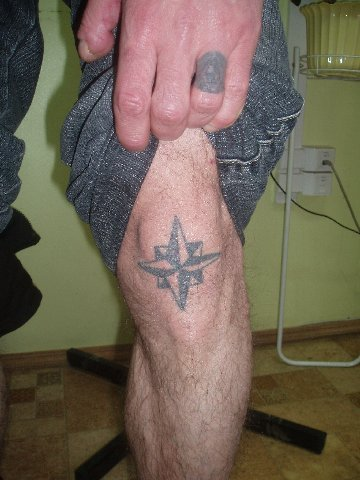tatu4_zvezda: (139, 218, 221, 313)
